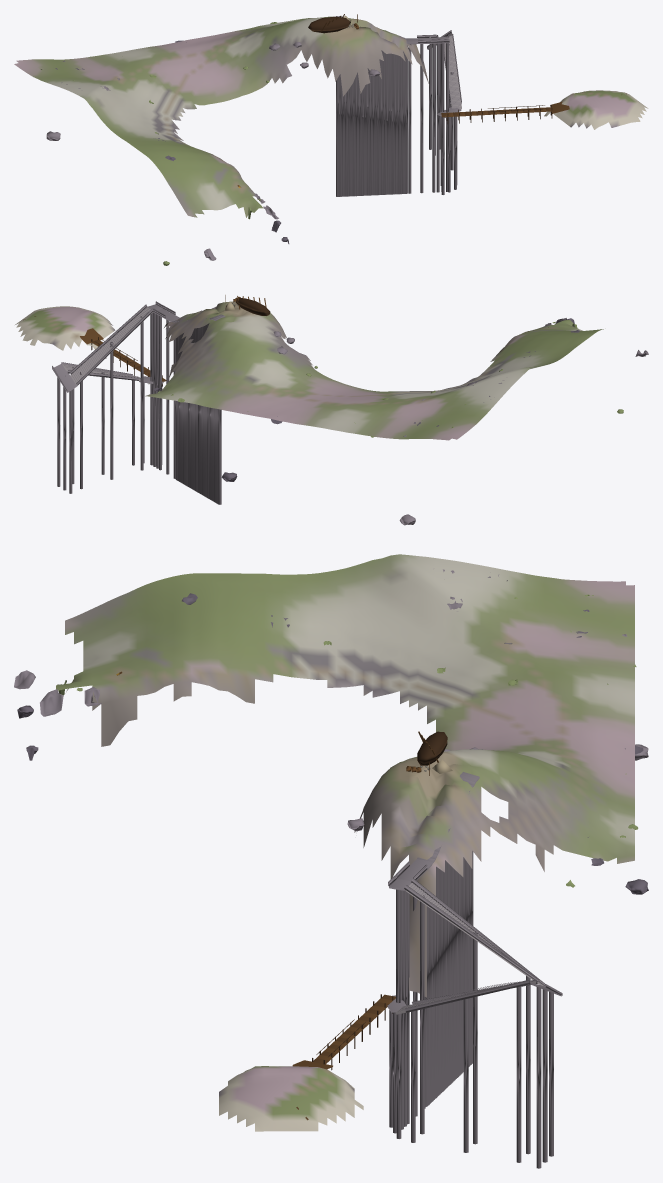
Rendered from coast_isl_beached_wreck.glb.
3 views of the same model, one above another, from view 1: azimuth 30°, elevation 25°; view 2: azimuth 150°, elevation 25°; view 3: azimuth 270°, elevation 25° (orthographic). The views are drawn at different scales.
Visible parts, largest first — view 1: coast_isl_beached_wreck; view 2: coast_isl_beached_wreck; view 3: coast_isl_beached_wreck.
Boxes of the visible parts, bbox=[...] form: coast_isl_beached_wreck: bbox=[14, 14, 648, 265]; coast_isl_beached_wreck: bbox=[15, 295, 648, 525]; coast_isl_beached_wreck: bbox=[14, 554, 648, 1168].
Size of the model in its own units: 216 by 75.66 by 140.
